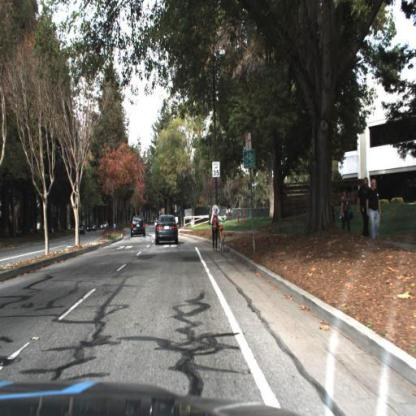car: (156, 214, 181, 245), (132, 216, 148, 239), (85, 221, 97, 235), (98, 219, 110, 232), (76, 226, 85, 237), (86, 226, 97, 234)
pedestrian: (208, 200, 227, 252), (369, 179, 383, 244), (358, 178, 372, 238), (341, 190, 354, 234), (212, 204, 221, 253)
